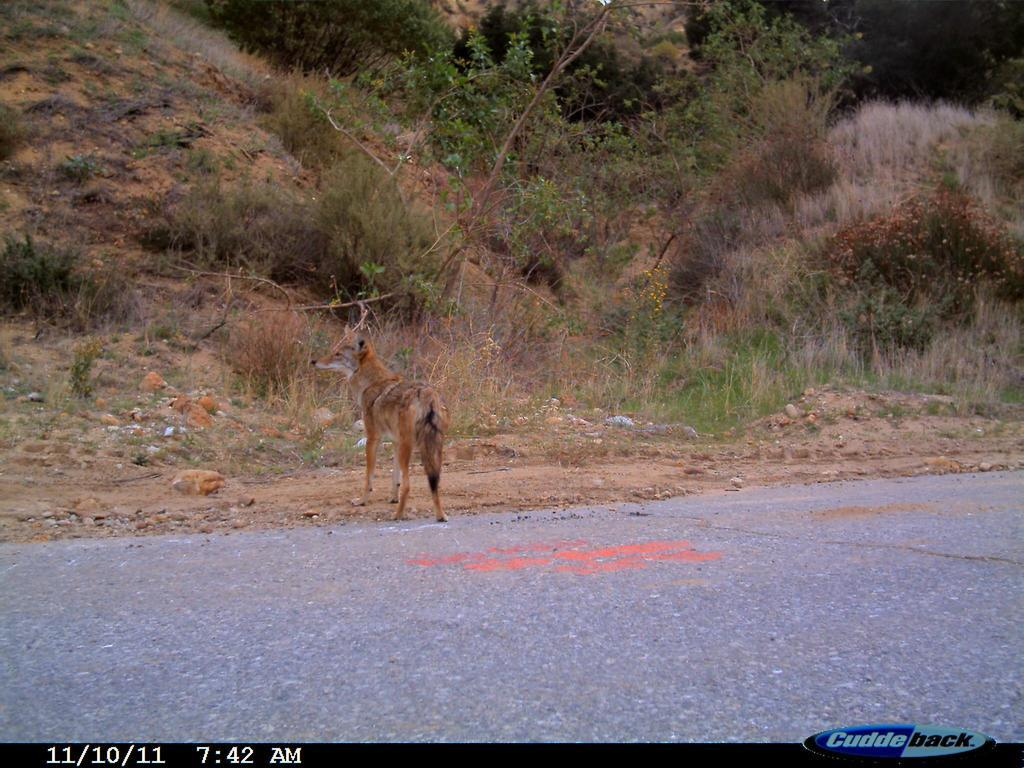coyote: (304, 314, 472, 528)
